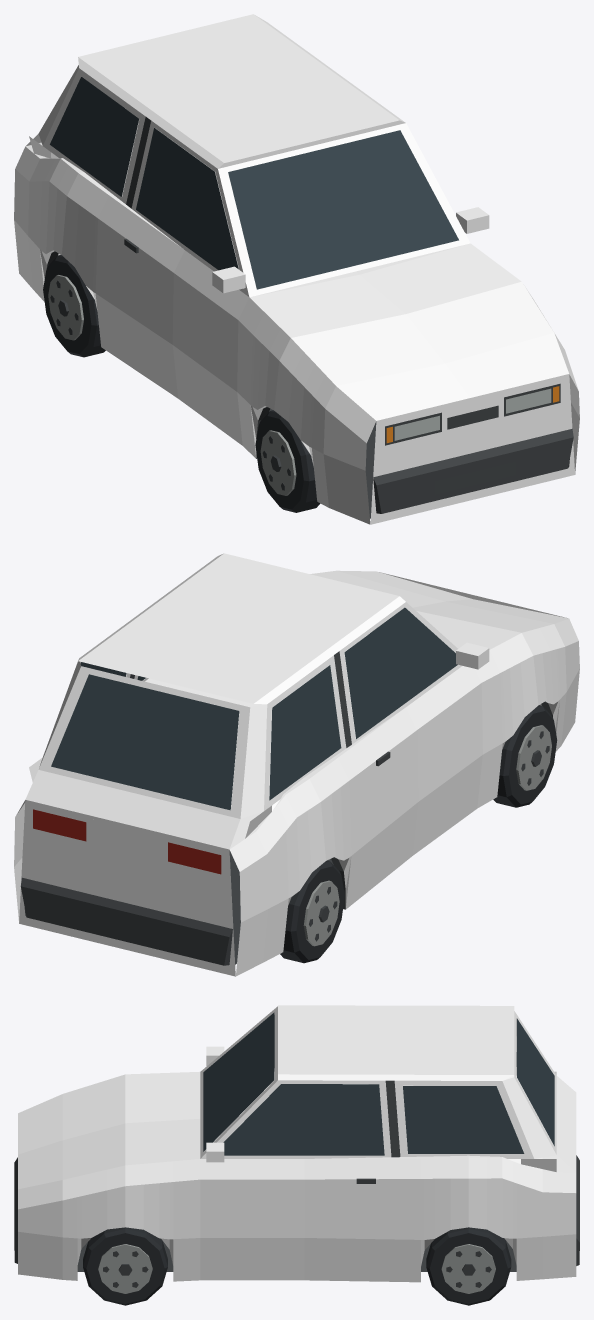
The model's file is keldorf_kolkrabe.glb.
The picture shows the model from 3 angles, top to bottom: view 1: azimuth 30°, elevation 25°; view 2: azimuth 150°, elevation 25°; view 3: azimuth 270°, elevation 25°; orthographic projection. The views are drawn at different scales.
Parts seen in each view (by area): view 1: keldorf_kolkrabe; view 2: keldorf_kolkrabe; view 3: keldorf_kolkrabe.
Boxes of the visible parts, x1=… form: keldorf_kolkrabe: x1=14, y1=14, x2=579, y2=524; keldorf_kolkrabe: x1=14, y1=553, x2=579, y2=976; keldorf_kolkrabe: x1=14, y1=1005, x2=579, y2=1305.
Bounding box in the file's own units: 1.66 × 1.61 × 3.79.
Materials: 8 (1 with a texture image).
